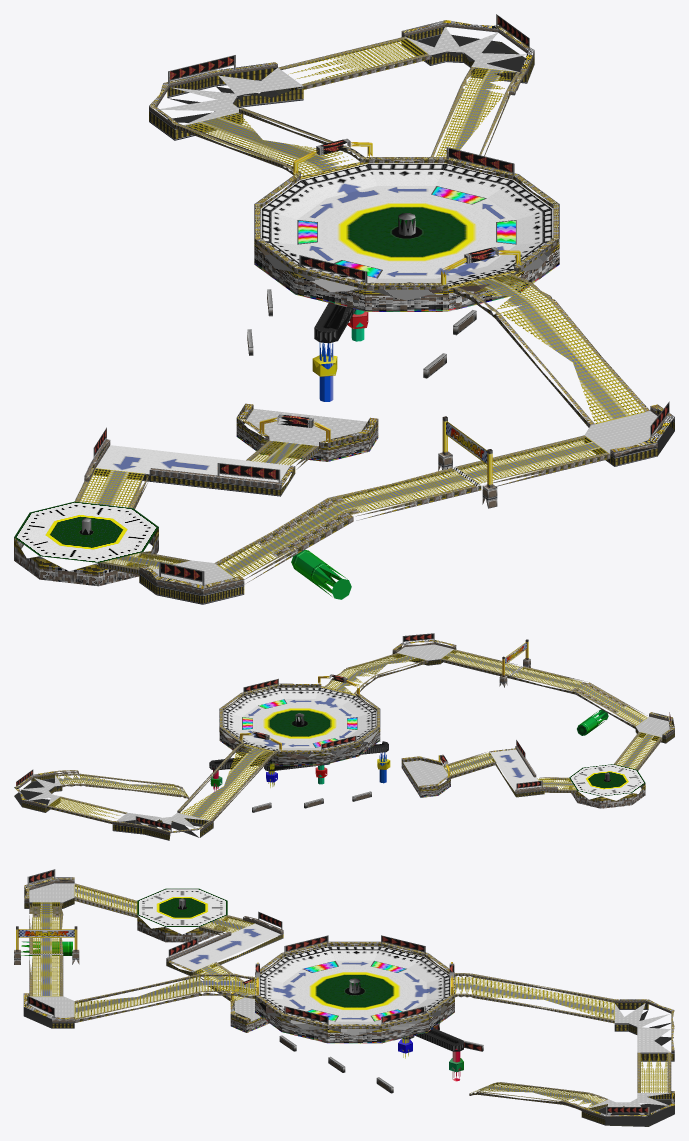
Rendered from clock_course-clock_course.glb.
3 views of the same model, one above another, from view 1: azimuth 30°, elevation 25°; view 2: azimuth 150°, elevation 25°; view 3: azimuth 270°, elevation 25° (orthographic). The views are drawn at different scales.
Parts seen in each view (by area): view 1: clock_course; view 2: clock_course; view 3: clock_course.
Boxes of the visible parts, x1=… form: clock_course: x1=14, y1=14, x2=674, y2=604; clock_course: x1=14, y1=633, x2=674, y2=840; clock_course: x1=14, y1=869, x2=674, y2=1126.
Bounding box in the file's own units: 348 × 61.1 × 366.
16 materials, 16 textured.
